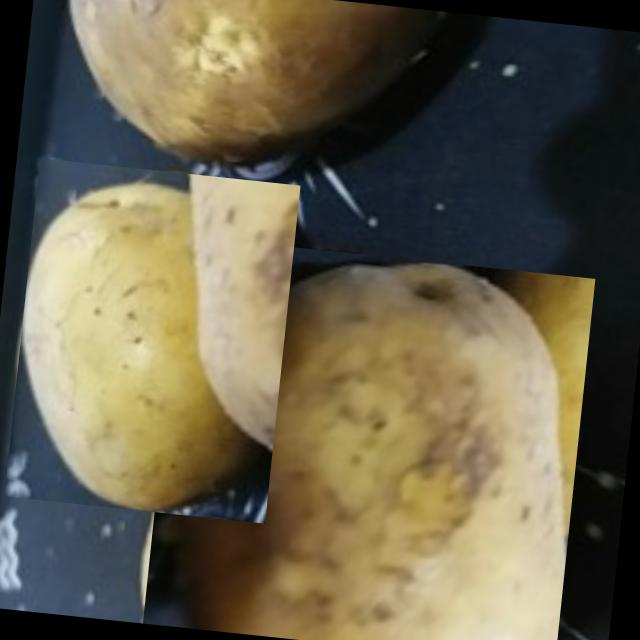Damaged potato: (141, 235, 593, 640), (44, 0, 484, 194)
Potato: (3, 157, 299, 524)
